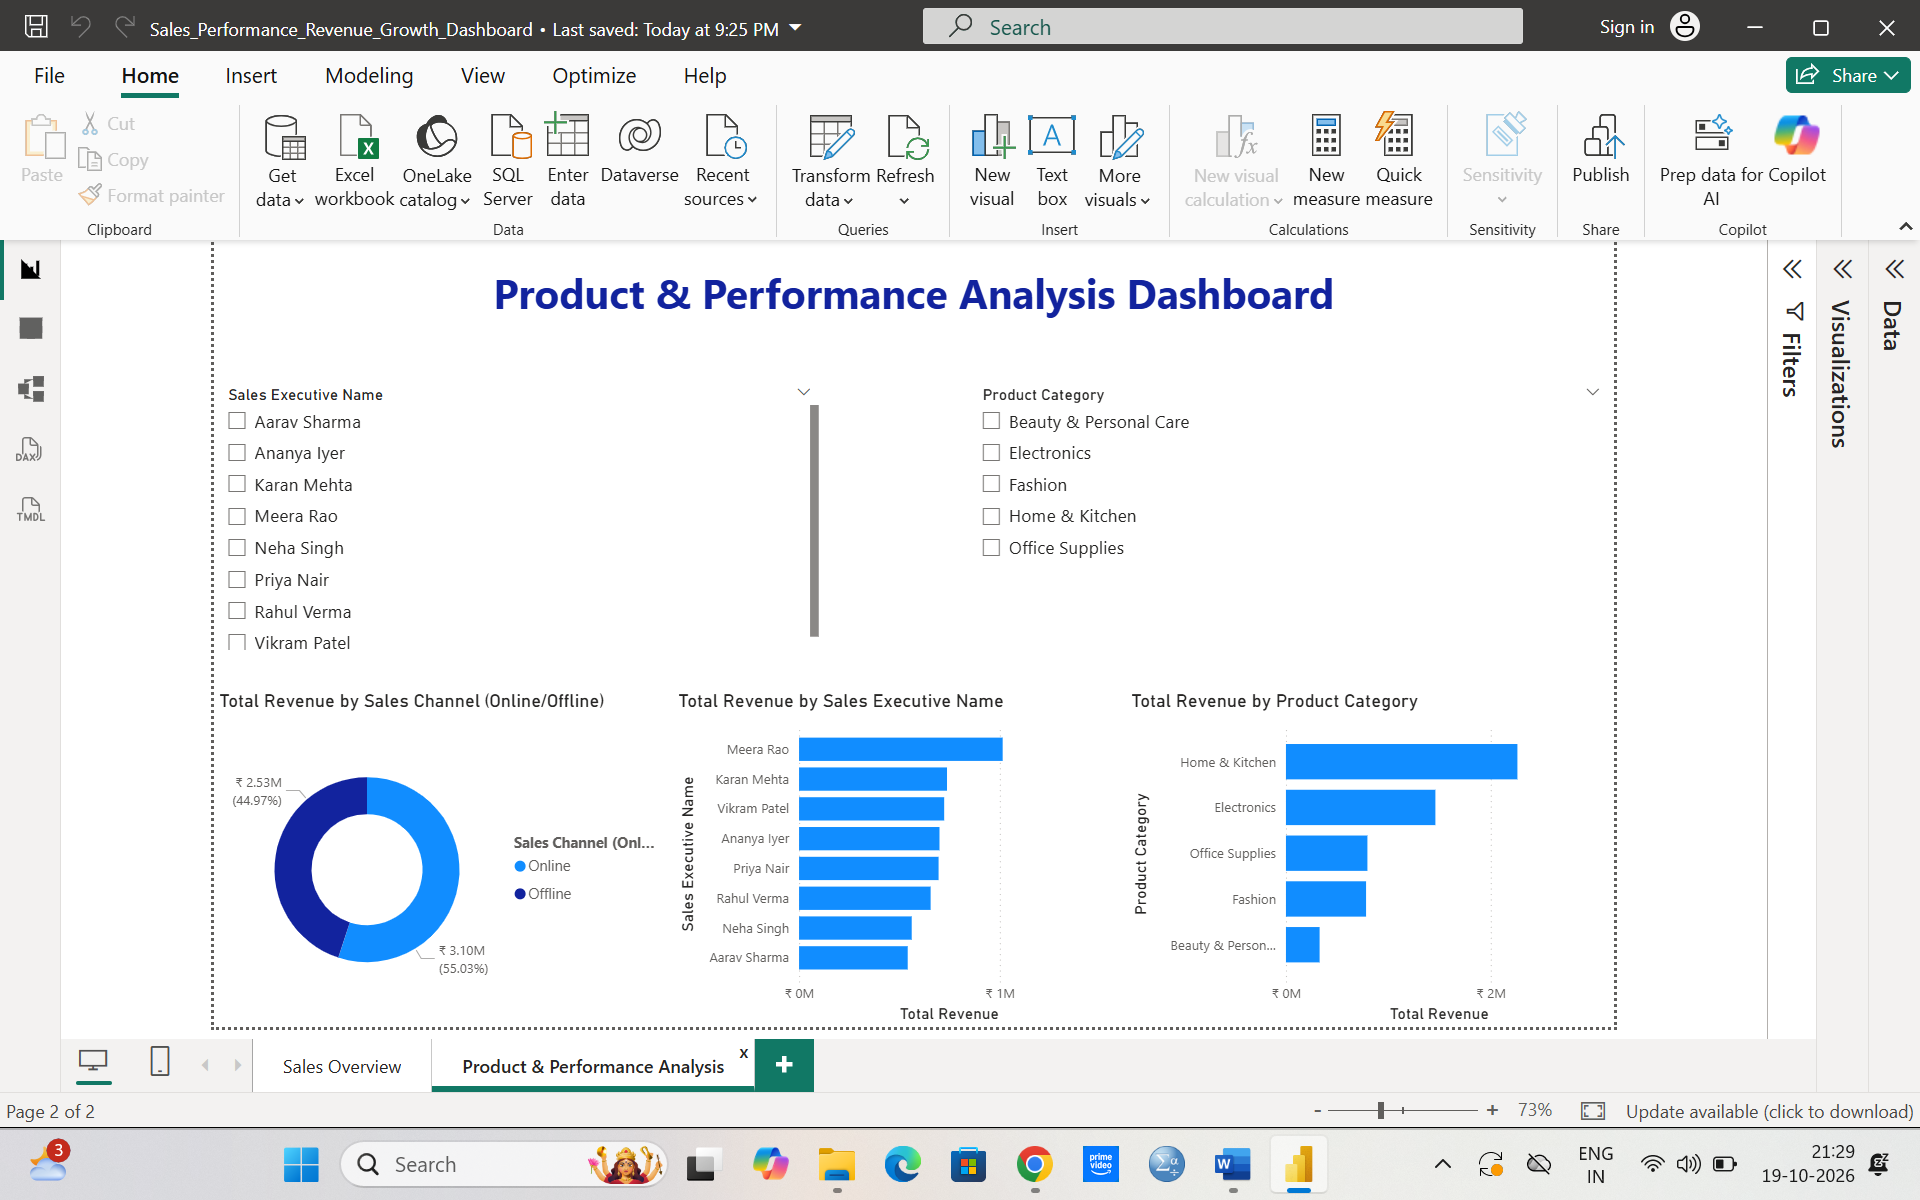

The dashboard page shown, as its layout file describes it:
{"tool":"powerbi","page":{"name":"Product & Performance Analysis","canvas":[1280,720],"ordinal":1},"visuals":[{"type":"clusteredBarChart","fields":{"Category":["Sales Data.Product Category"],"Y":["Sales Data.Total Revenue"]},"box":[834.4,411.7,446,308.8],"z":0},{"type":"donutChart","fields":{"Category":["Sales Data.Sales Channel (Online/Offline)"],"Y":["Sales Data.Total Revenue"]},"box":[0,411.7,410.3,308.8],"z":1},{"type":"clusteredBarChart","fields":{"Category":["Sales Data.Sales Executive Name"],"Y":["Sales Data.Total Revenue"]},"box":[419.9,411.7,414.4,308.8],"z":2},{"type":"slicer","fields":{"Values":["Sales Data.Product Category"]},"box":[690.3,127.6,590.1,252.5],"z":3},{"type":"slicer","fields":{"Values":["Sales Data.Sales Executive Name"]},"box":[0,127.6,558.5,252.5],"z":4},{"type":"textbox","box":[0,0,1280.4,108.4],"z":5}]}

Visuals, with their boxes on the page's 1280x720 design canvas (x1, y1, x2, y2). These are canvas units, not pixel positions in the 1920x1200 screenshot, which may show the page scaled, cropped or inside an application window:
clusteredBarChart - Sales Data.Product Category x Sales Data.Total Revenue: [834, 412, 1280, 720]
donutChart - Sales Data.Sales Channel (Online/Offline) x Sales Data.Total Revenue: [0, 412, 410, 720]
clusteredBarChart - Sales Data.Sales Executive Name x Sales Data.Total Revenue: [420, 412, 834, 720]
slicer - Sales Data.Product Category: [690, 128, 1280, 380]
slicer - Sales Data.Sales Executive Name: [0, 128, 558, 380]
textbox: [0, 0, 1280, 108]
